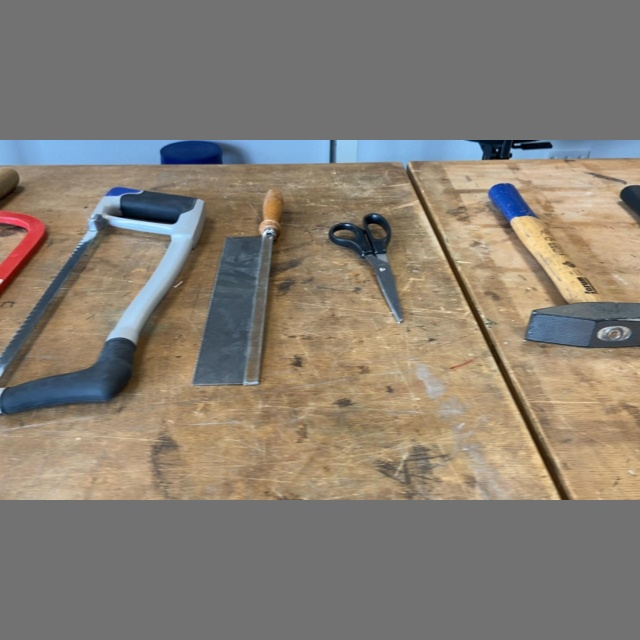scissor: (325, 210, 413, 327)
